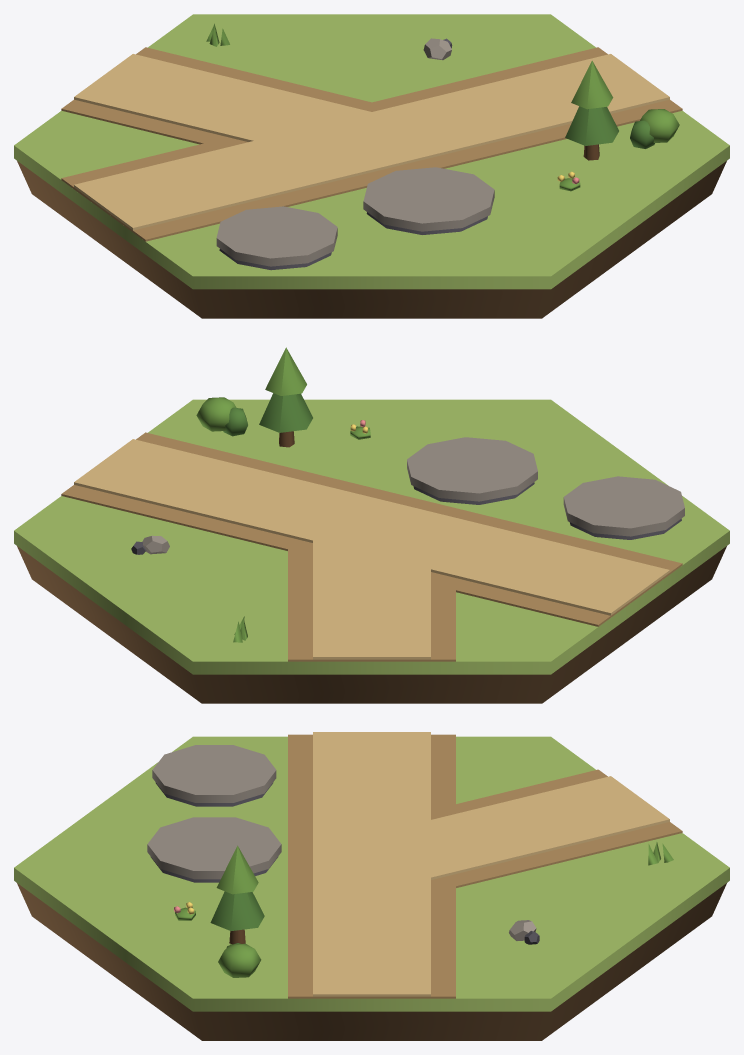
File: tile_tJunction.glb
3 views of the same model, one above another, from view 1: azimuth 30°, elevation 25°; view 2: azimuth 150°, elevation 25°; view 3: azimuth 270°, elevation 25° (orthographic).
Visible parts, largest first — view 1: ground, road, ground_soil, tower_slot_2_plate, tower_slot_1_plate, road_surface_hub, deco_tree_3_crown, deco_tree_3_crown_b, deco_bush_0_a, deco_bush_0_b; view 2: ground, road, ground_soil, tower_slot_2_plate, tower_slot_1_plate, road_surface_hub, deco_tree_3_crown, deco_tree_3_crown_b, deco_bush_0_a; view 3: ground, road, ground_soil, tower_slot_2_plate, tower_slot_1_plate, road_surface_hub, deco_tree_3_crown, deco_tree_3_crown_b, deco_bush_0_a.
Part boxes in pixels (bbox=[...]): ground: bbox=[14, 14, 729, 289]; road: bbox=[61, 47, 682, 241]; ground_soil: bbox=[17, 161, 726, 318]; tower_slot_2_plate: bbox=[363, 167, 494, 231]; tower_slot_1_plate: bbox=[216, 206, 337, 266]; road_surface_hub: bbox=[313, 116, 430, 165]; deco_tree_3_crown: bbox=[565, 106, 618, 145]; deco_tree_3_crown_b: bbox=[571, 60, 613, 109]; deco_bush_0_a: bbox=[640, 109, 679, 142]; deco_bush_0_b: bbox=[630, 120, 654, 148]; ground: bbox=[14, 399, 729, 674]; road: bbox=[61, 432, 682, 661]; ground_soil: bbox=[17, 546, 726, 703]; tower_slot_2_plate: bbox=[407, 437, 537, 501]; tower_slot_1_plate: bbox=[563, 476, 684, 536]; road_surface_hub: bbox=[314, 501, 429, 550]; deco_tree_3_crown: bbox=[259, 393, 312, 432]; deco_tree_3_crown_b: bbox=[265, 347, 306, 395]; deco_bush_0_a: bbox=[196, 397, 236, 431]; ground: bbox=[14, 736, 729, 1011]; road: bbox=[288, 732, 682, 998]; ground_soil: bbox=[17, 883, 726, 1040]; tower_slot_2_plate: bbox=[147, 817, 281, 879]; tower_slot_1_plate: bbox=[152, 745, 276, 802]; road_surface_hub: bbox=[313, 838, 428, 887]; deco_tree_3_crown: bbox=[210, 891, 264, 930]; deco_tree_3_crown_b: bbox=[216, 845, 258, 894]; deco_bush_0_a: bbox=[218, 943, 261, 977].
Size of the model in its own units: 1.73 by 0.4489 by 2.
